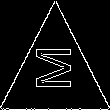M_W: (33, 50, 77, 96)
